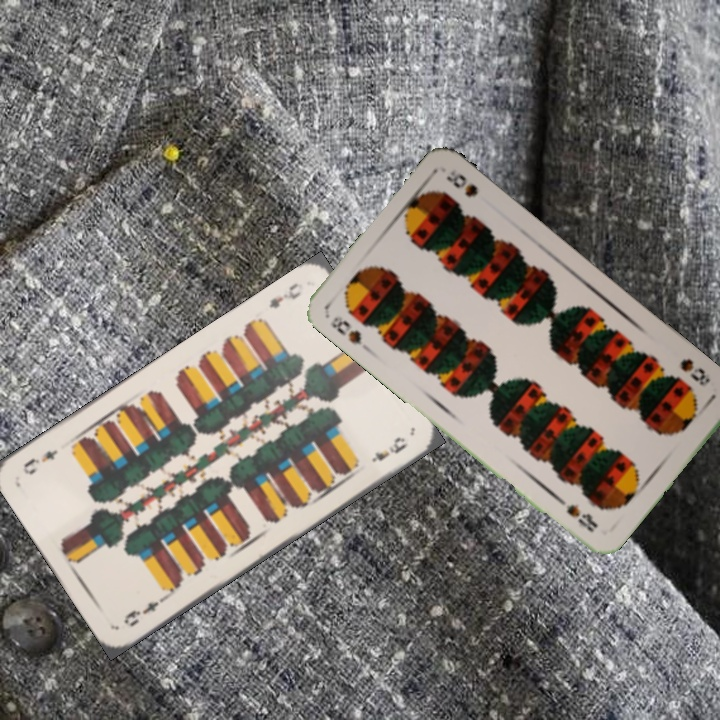E9: (119, 591, 170, 630), (265, 278, 304, 311)
S8: (326, 312, 365, 348), (676, 354, 713, 389)
